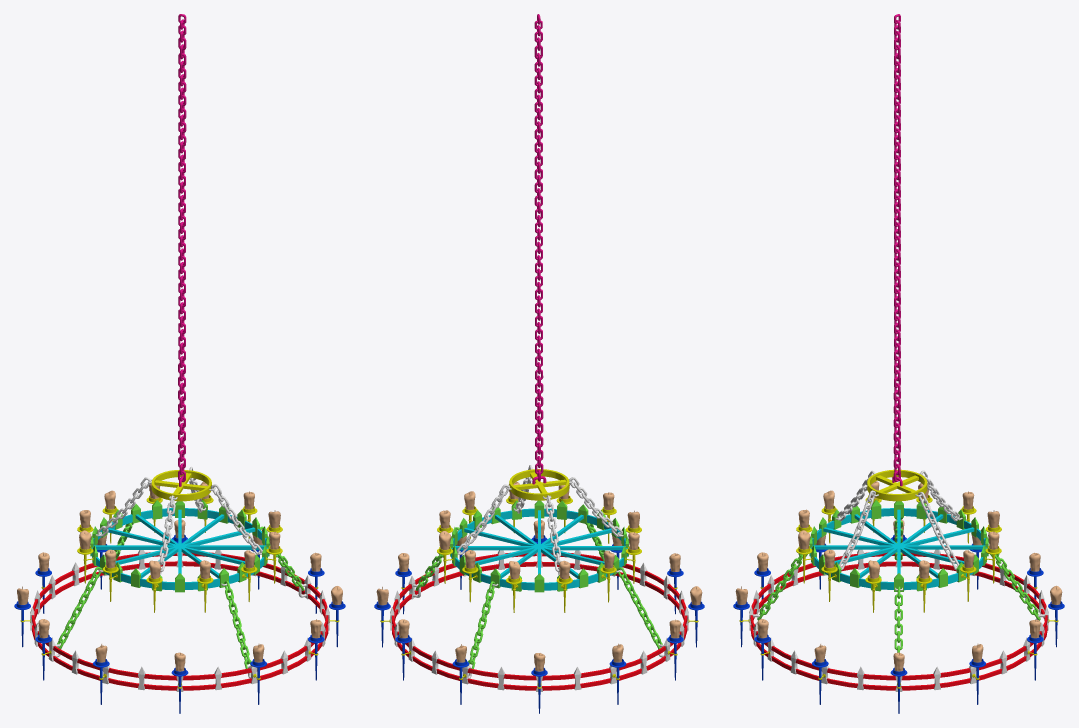
File: Chandelier_low.fbx
3 views of the same model, side by side, from view 1: azimuth 30°, elevation 25°; view 2: azimuth 150°, elevation 25°; view 3: azimuth 270°, elevation 25° (orthographic).
Parts seen in each view (by area): view 1: Mid Ring_low, Bottom Ring_low, Candles_low, Top Chain_low, Bottom Torch_low, Mid Chains_low, Bottom Chains_low, Mid Torch_low, Top Ring_low; view 2: Mid Ring_low, Bottom Ring_low, Candles_low, Top Chain_low, Bottom Torch_low, Mid Chains_low, Bottom Chains_low, Mid Torch_low, Top Ring_low; view 3: Mid Ring_low, Bottom Ring_low, Candles_low, Top Chain_low, Mid Chains_low, Bottom Torch_low, Bottom Chains_low, Mid Torch_low, Top Ring_low.
Boxes of the visible parts, left/top/right/bottom form: Mid Ring_low: left=83, top=500, right=276, bottom=592; Bottom Ring_low: left=20, top=550, right=339, bottom=691; Candles_low: left=17, top=481, right=342, bottom=671; Top Chain_low: left=178, top=14, right=186, bottom=481; Bottom Torch_low: left=14, top=534, right=345, bottom=713; Mid Chains_low: left=97, top=467, right=262, bottom=575; Bottom Chains_low: left=57, top=523, right=304, bottom=668; Mid Torch_low: left=77, top=495, right=282, bottom=612; Top Ring_low: left=147, top=470, right=215, bottom=501; Mid Ring_low: left=443, top=500, right=635, bottom=592; Bottom Ring_low: left=380, top=550, right=698, bottom=691; Candles_low: left=376, top=481, right=702, bottom=671; Top Chain_low: left=534, top=14, right=543, bottom=481; Bottom Torch_low: left=374, top=535, right=704, bottom=713; Mid Chains_low: left=456, top=465, right=622, bottom=575; Bottom Chains_low: left=415, top=523, right=662, bottom=668; Mid Torch_low: left=437, top=495, right=641, bottom=612; Top Ring_low: left=505, top=469, right=573, bottom=500; Mid Ring_low: left=802, top=500, right=995, bottom=591; Bottom Ring_low: left=739, top=549, right=1058, bottom=691; Candles_low: left=735, top=481, right=1062, bottom=671; Top Chain_low: left=893, top=14, right=900, bottom=481; Mid Chains_low: left=837, top=470, right=959, bottom=569; Bottom Torch_low: left=733, top=534, right=1064, bottom=713; Bottom Chains_low: left=757, top=517, right=1040, bottom=652; Mid Torch_low: left=796, top=495, right=1001, bottom=612; Top Ring_low: left=867, top=469, right=927, bottom=501.
Bounding box in the file's own units: 1093 × 2305 × 1093.
